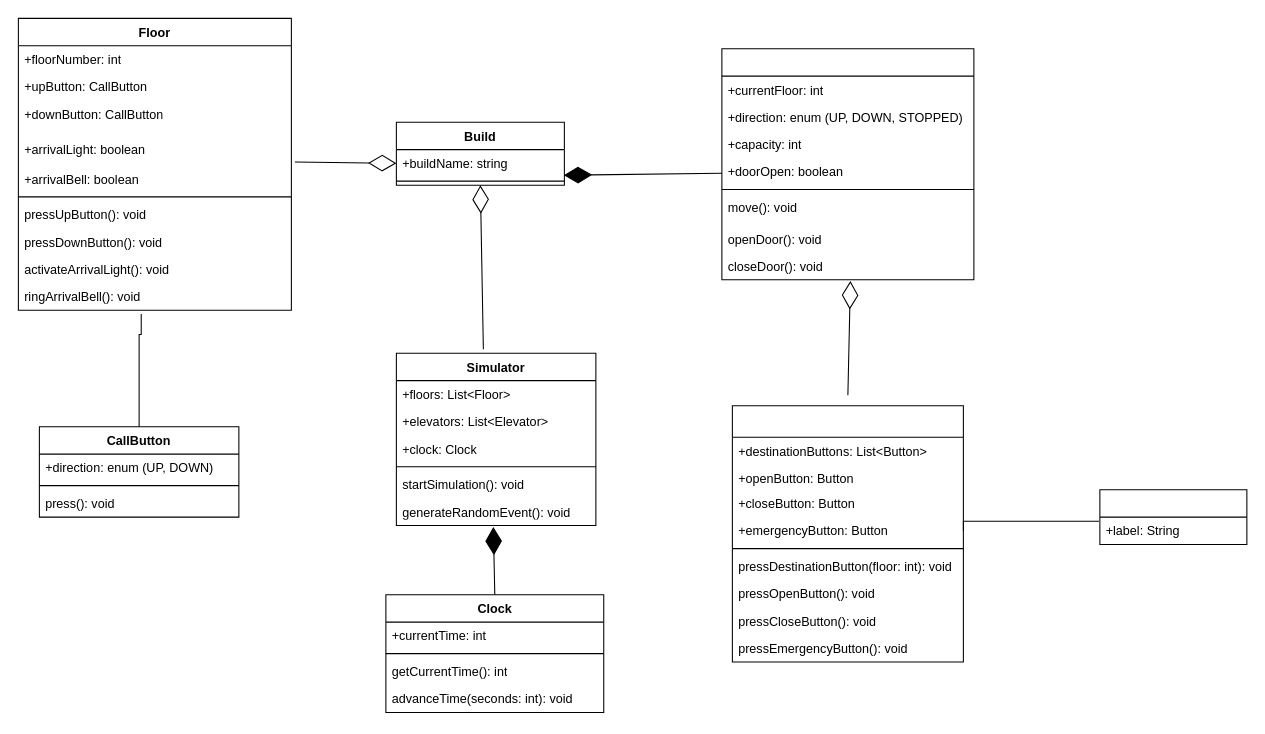
Some shapes in this 1265 by 734 pixel diagram are drawn without their labels. The box of each missing label's shape, as (x1, y1, x2, y2) in pixels:
Button: (1099, 489, 1247, 544)
ControlPanel: (731, 405, 963, 662)
Elevator: (721, 48, 974, 280)
